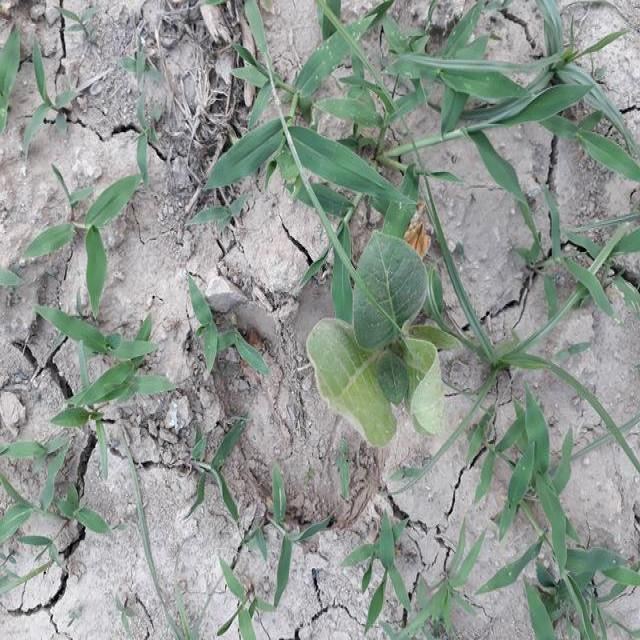crop: (301, 220, 454, 442)
